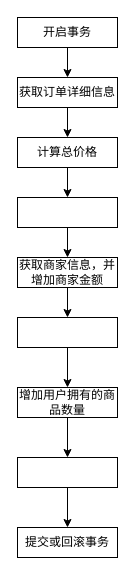
The diagram is 135 pixels wide and 575 high, and some of its shapes have lost their labels. Here are the shapes that lost their labels. From the top down, the box of each, then its label:
(16, 196, 118, 228): 获取用户信息，并减少用户金额
(16, 316, 118, 348): 减少商家的商品数量
(16, 456, 118, 488): 删除对应订单
